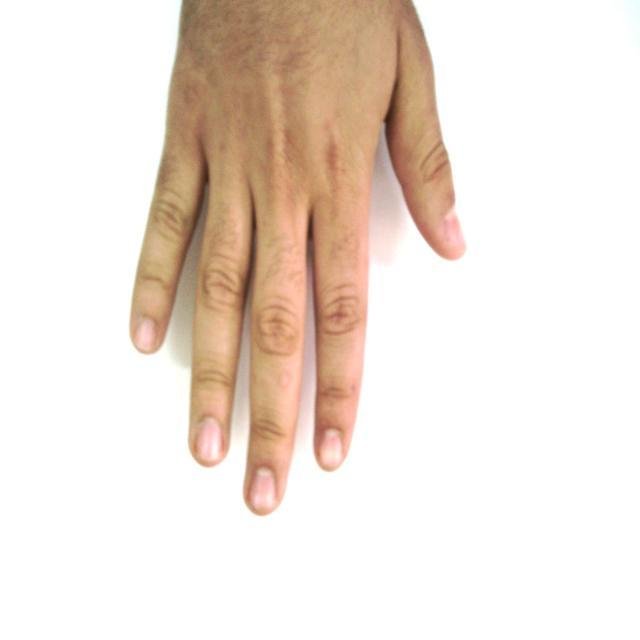Fingernail: (196, 419, 222, 461), (251, 468, 276, 511), (321, 429, 343, 469), (445, 211, 465, 249), (136, 319, 156, 351)
